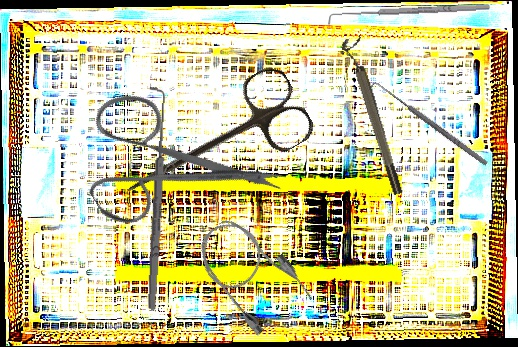Cannula: (186, 205, 317, 341)
Fixation Ring: (339, 35, 406, 198)
Hook Surgical: (368, 78, 490, 171), (137, 87, 171, 310), (327, 1, 491, 26)
Iris Scissors: (54, 43, 290, 275), (109, 61, 319, 230)
